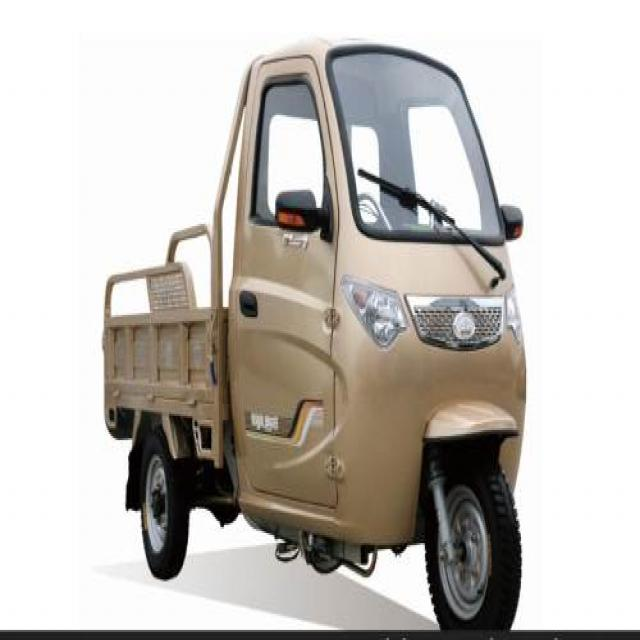tricycle: (99, 30, 528, 638)
